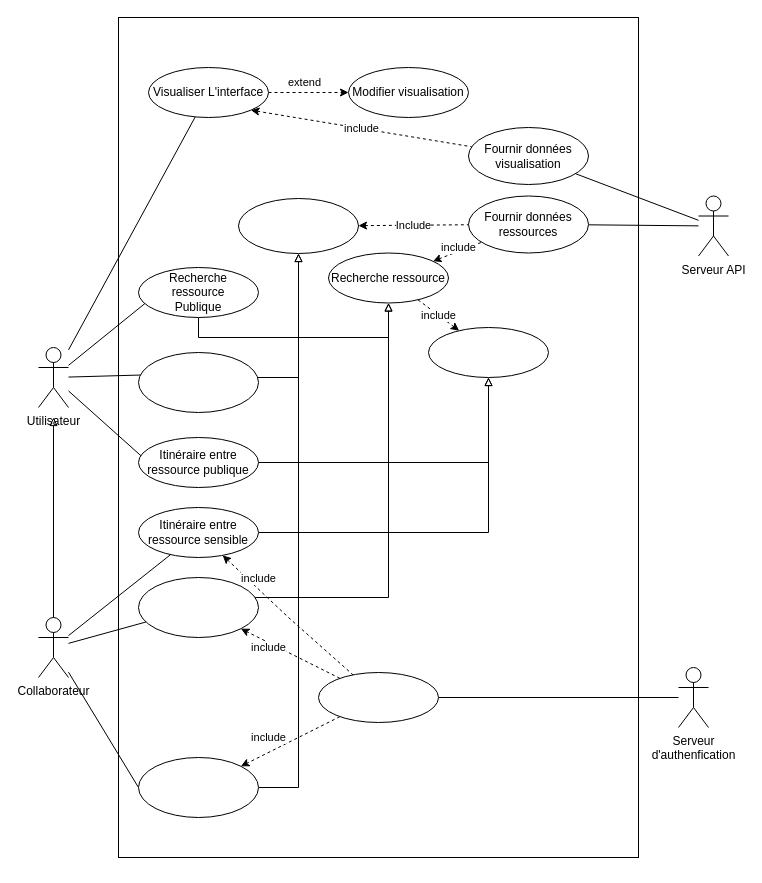
The diagram is 762 pixels wide and 883 high, and some of its shapes have lost their labels. The box of each missing label's shape, as (x1, y1, x2, y2) in pixels:
Authentification: (318, 672, 438, 722)
itinéraire: (428, 326, 548, 378)
Obtenir informations ressource: (238, 198, 358, 254)
Obtenir informations ressource publique: (138, 352, 258, 412)
Obtenir Informations ressource sensible: (138, 756, 258, 818)
Recherche ressource sensible: (138, 576, 258, 638)
